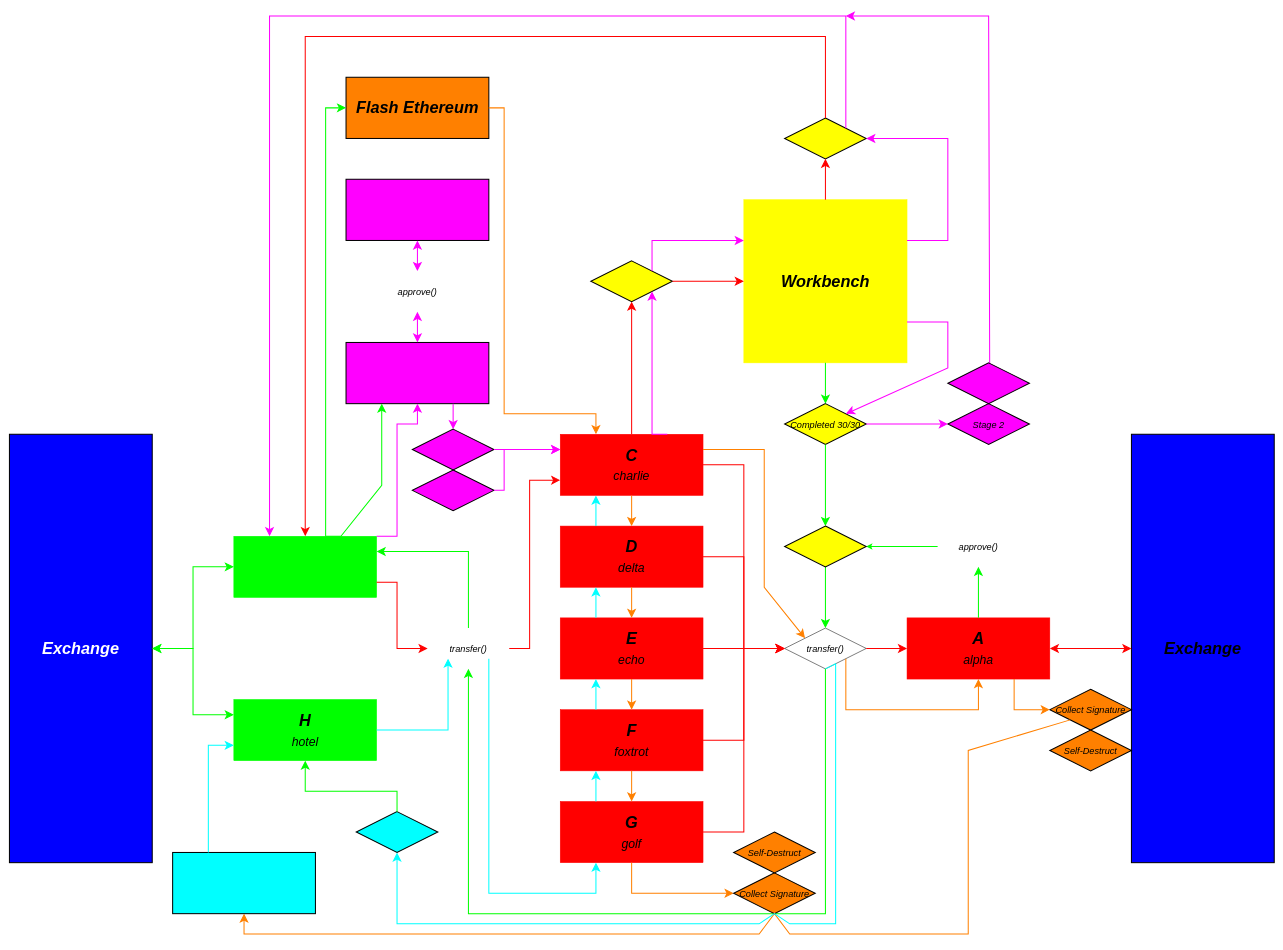
Image size: 1283x950. Some labels were removed from this diagram. The box of each missing label's shape, as (x1, y1, x2, y2) in pixels:
B bravo: (233, 536, 377, 597)
Delay: (412, 469, 494, 511)
Deposit: (590, 260, 673, 302)
Flash Borrower: (345, 342, 489, 404)
Flash Lender: (345, 178, 489, 241)
Negative Balance: (784, 117, 866, 159)
Return: (947, 362, 1030, 404)
Stage 1: (412, 428, 494, 470)
sweep/intercept: (355, 811, 438, 853)
Sweeper: (172, 852, 316, 914)
Withdraw: (784, 525, 866, 567)
